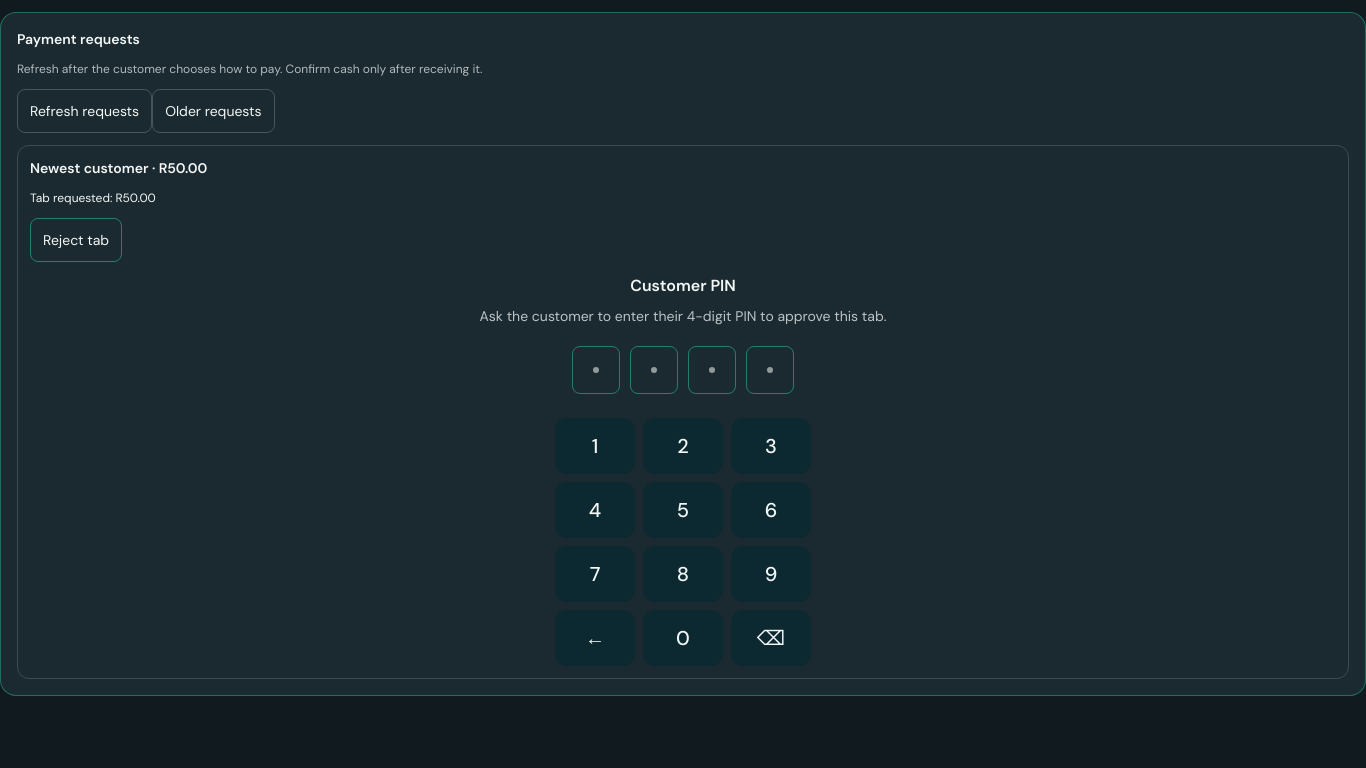
Scenario: owner payment interactions › clears a PIN mismatch as soon as the customer starts editing
The image size is (1366, 768).
Expected: the text "Newest customer · R50.00" is shown, left=30, top=159, right=207, bottom=177
Expected: the button "Older requests" is enabled, left=152, top=89, right=275, bottom=133
Click the button named "Enter 1".
click(595, 446)  # box left=555, top=418, right=635, bottom=474
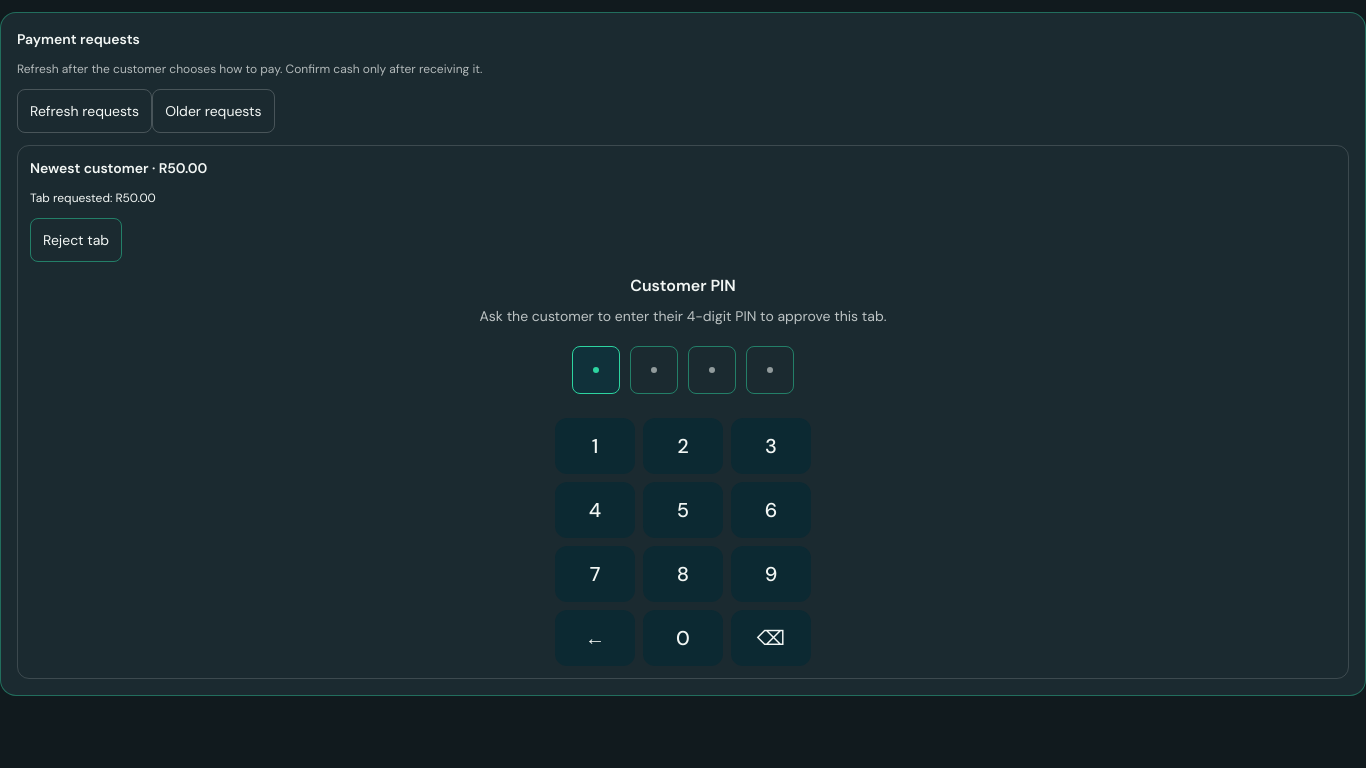
Click the button "2".
click(683, 446)  # box left=643, top=418, right=723, bottom=474
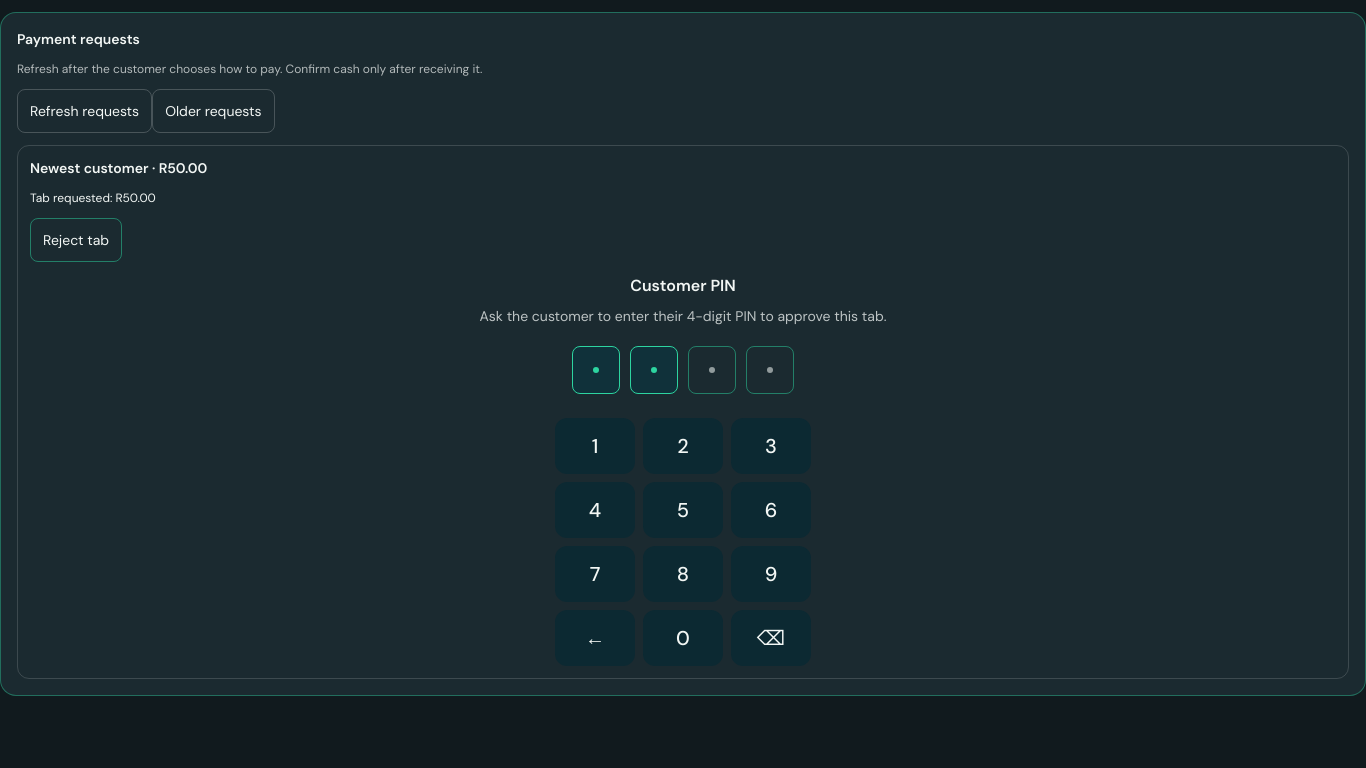
Click the button "3".
click(771, 446)  # box left=731, top=418, right=811, bottom=474
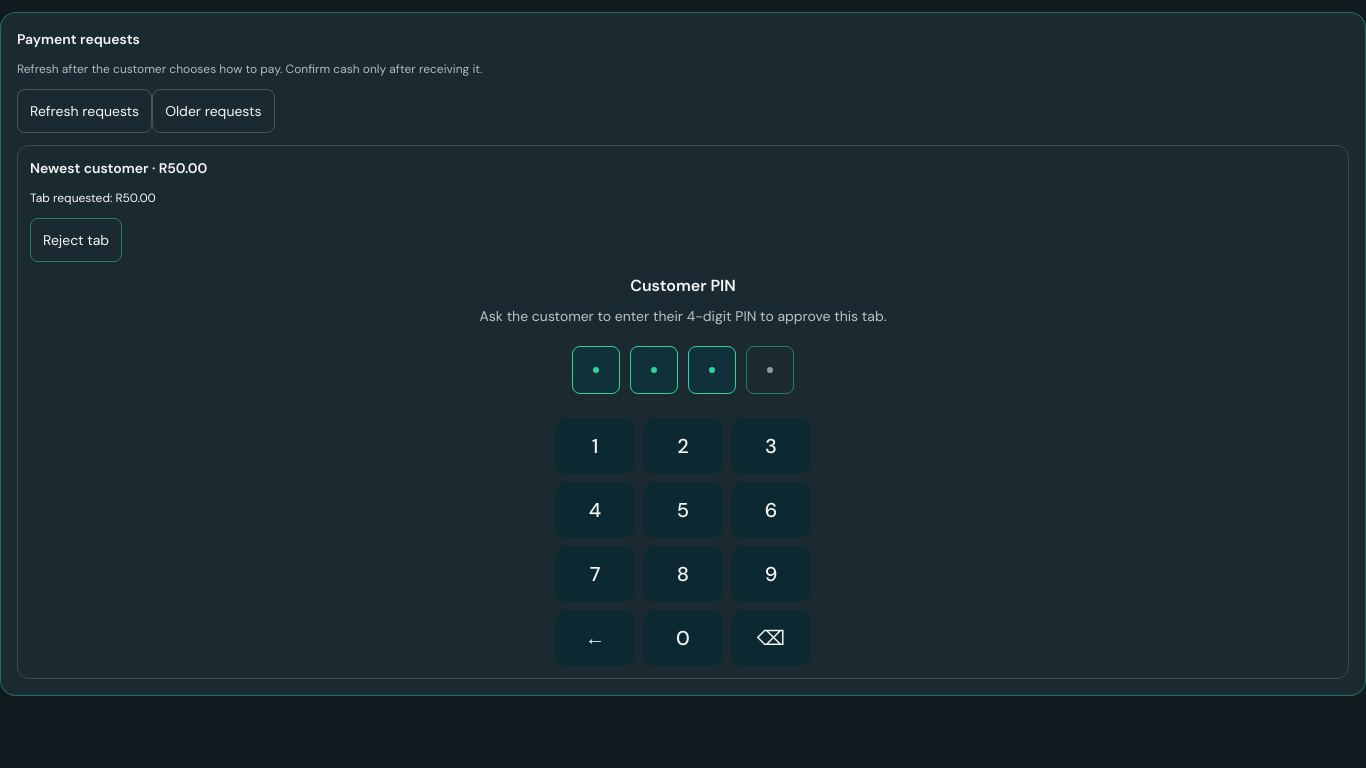
Click the button "4".
click(595, 510)  # box left=555, top=482, right=635, bottom=538
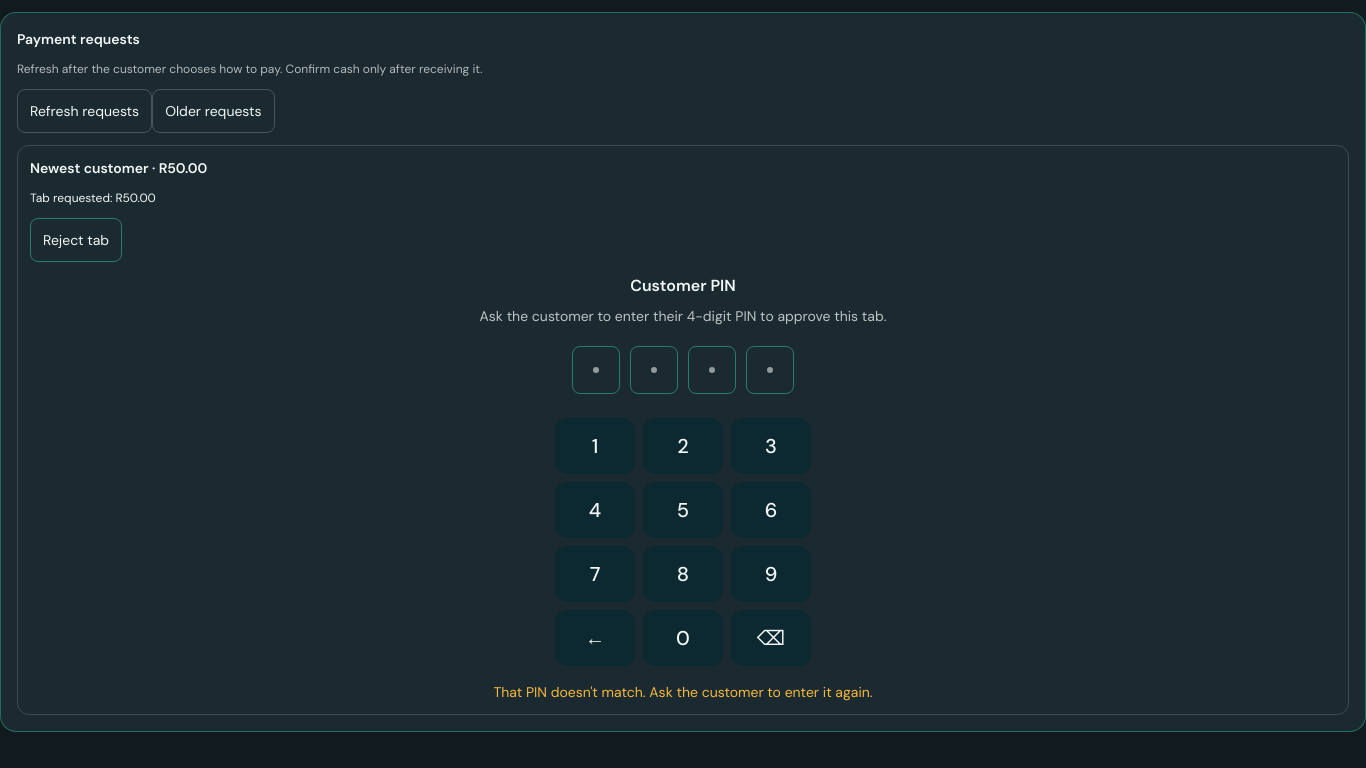
Expected: the message "That PIN doesn't match. Ask the customer to enter it again." is shown, left=493, top=683, right=872, bottom=701
Click the button named "Enter 1".
click(595, 446)  # box left=555, top=418, right=635, bottom=474
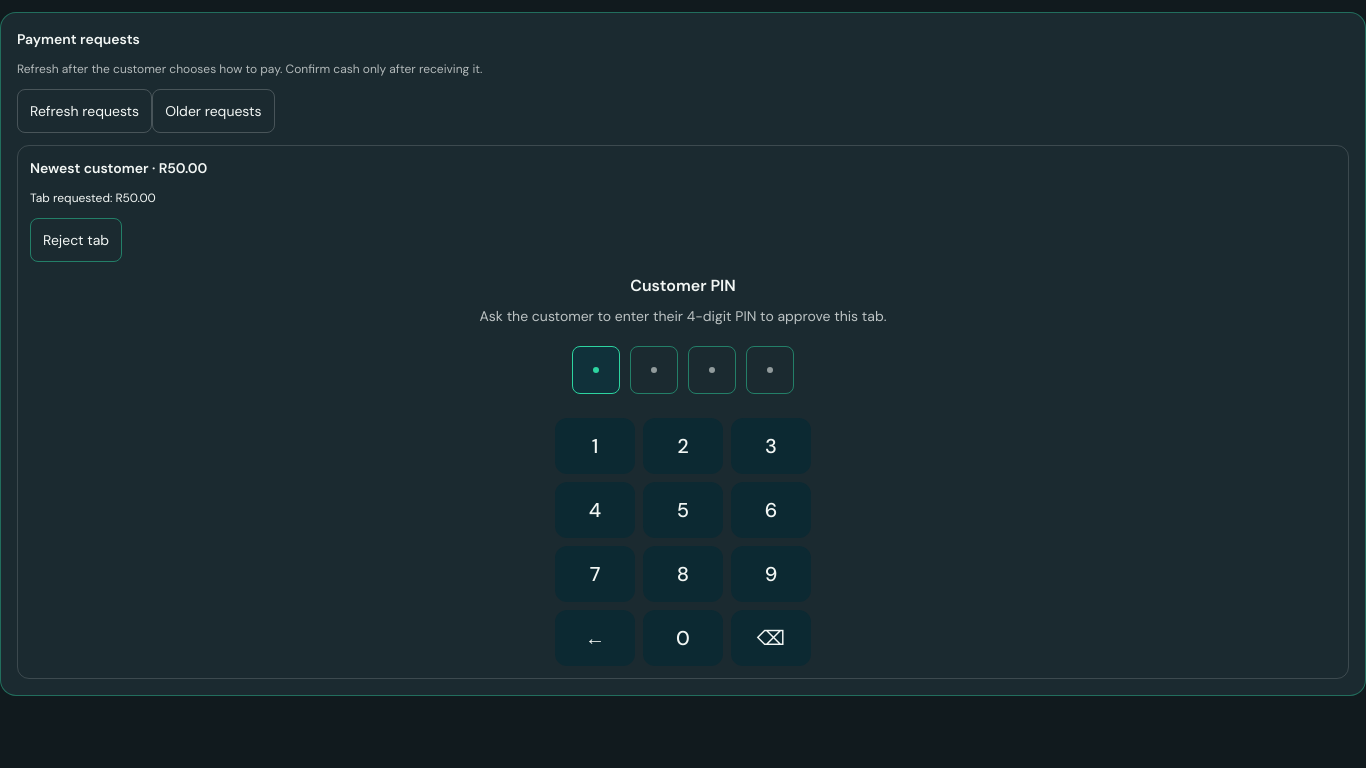
Expected: the message "That PIN doesn't match. Ask the customer to enter it again." is gone
Expected: the element named "1 of 4 PIN digits entered" is shown, left=571, top=346, right=795, bottom=394
